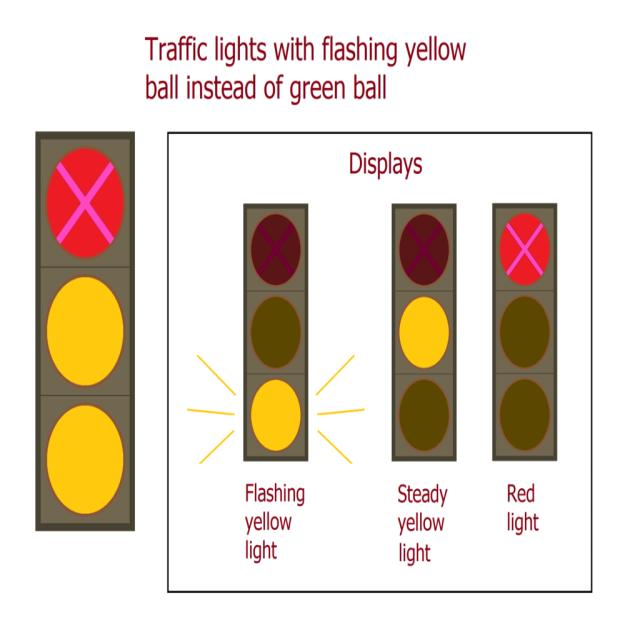red: (44, 146, 122, 258), (496, 206, 550, 293)
